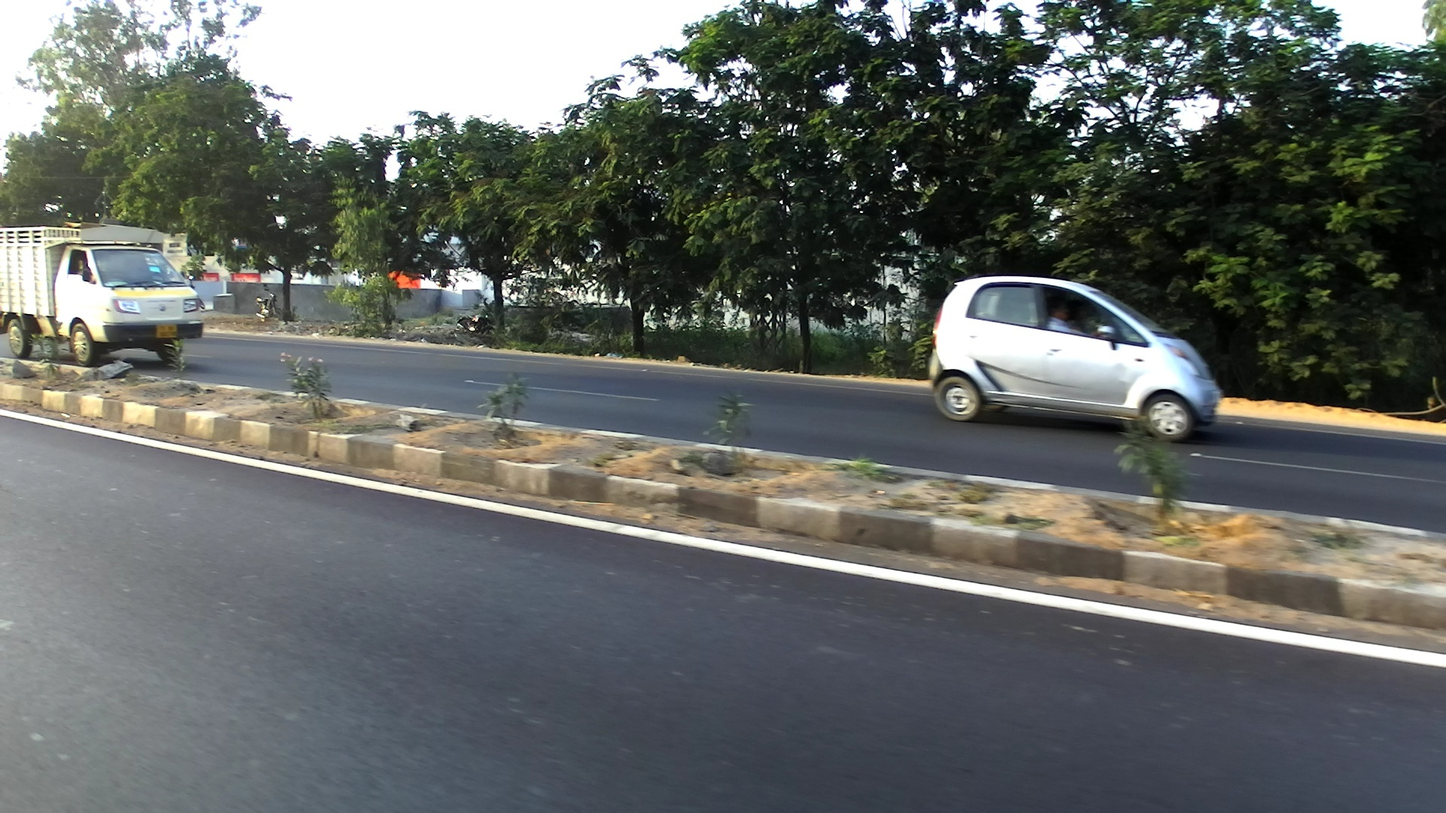car: (922, 273, 1219, 441)
motorcycle: (455, 305, 499, 341), (255, 289, 284, 324)
truck: (1, 218, 208, 365)
